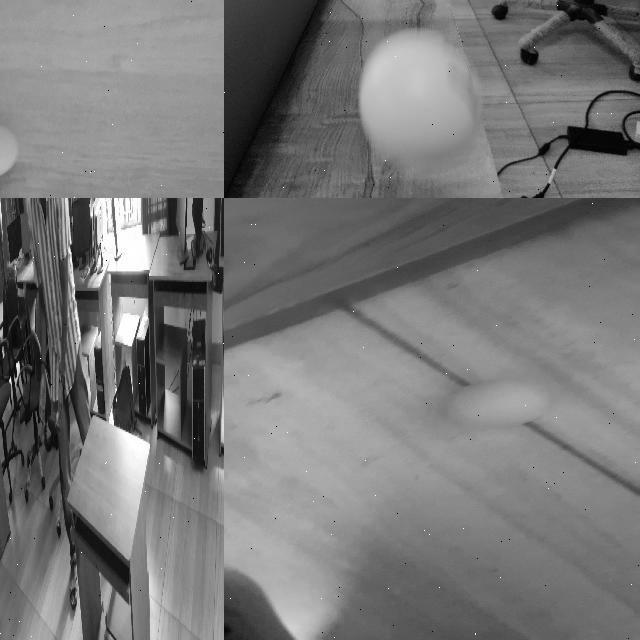ping-pong-ball: (359, 28, 477, 172), (451, 381, 544, 425), (0, 124, 18, 180), (56, 410, 59, 427)
